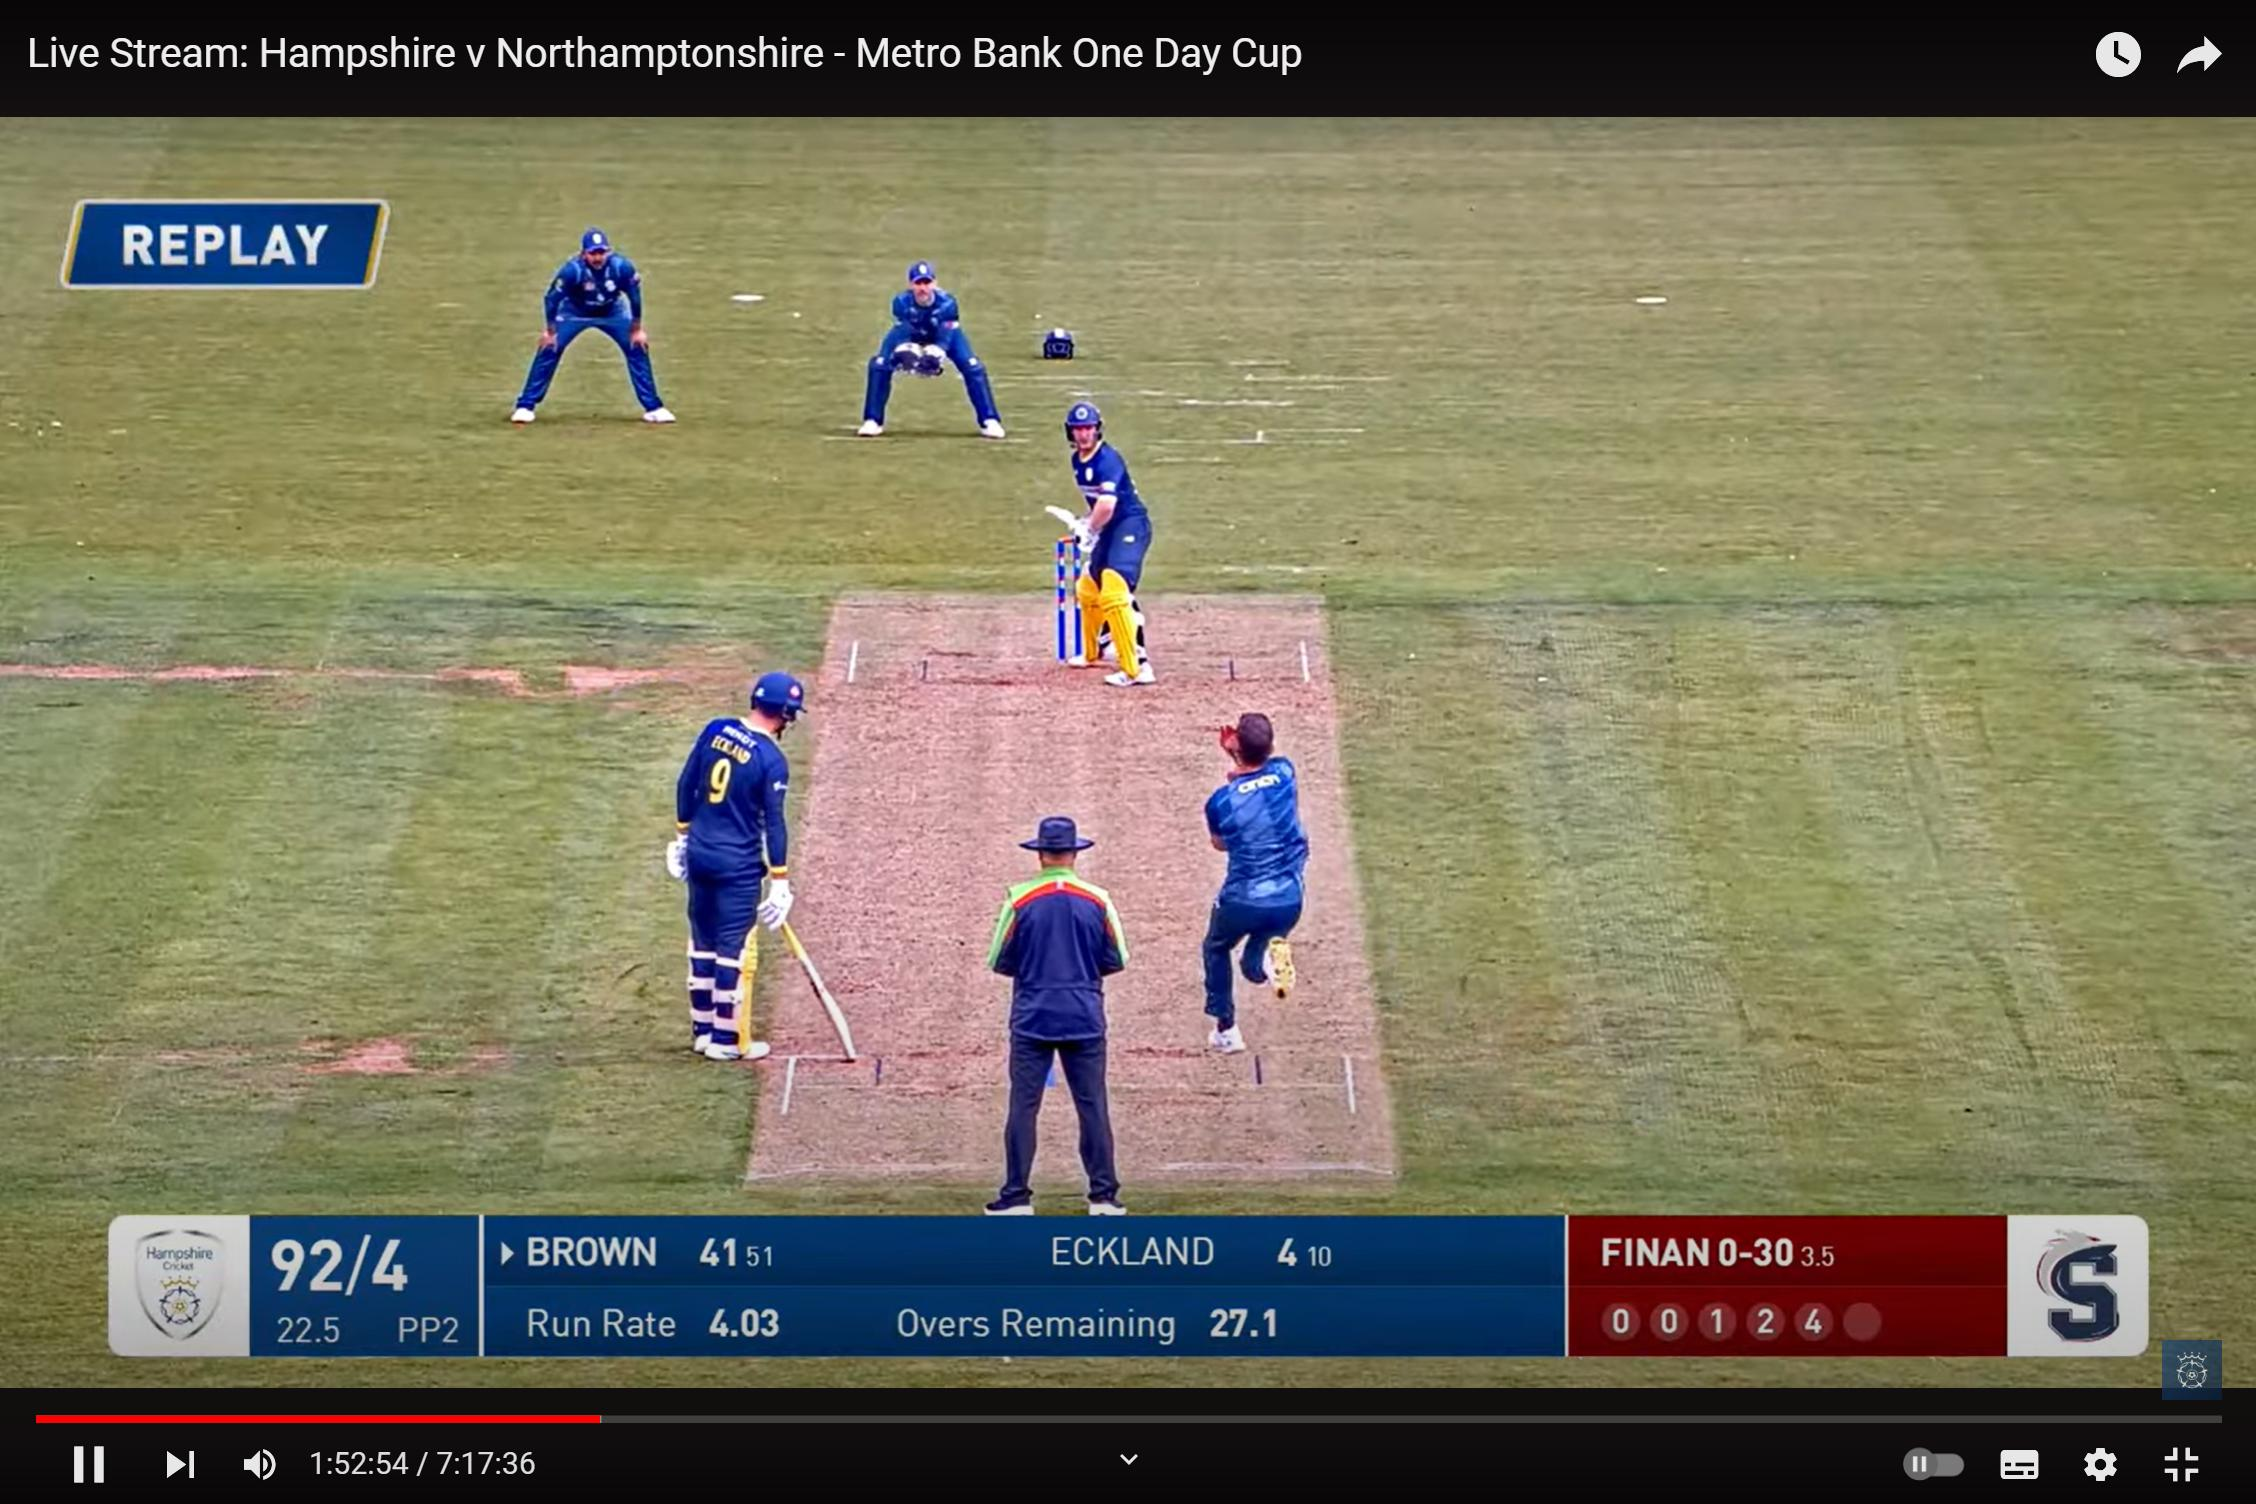batsman: (1004, 394, 1172, 673)
bowler running in: (1182, 692, 1336, 1076)
non striker: (650, 648, 858, 1103)
umpire: (975, 764, 1151, 1229)
